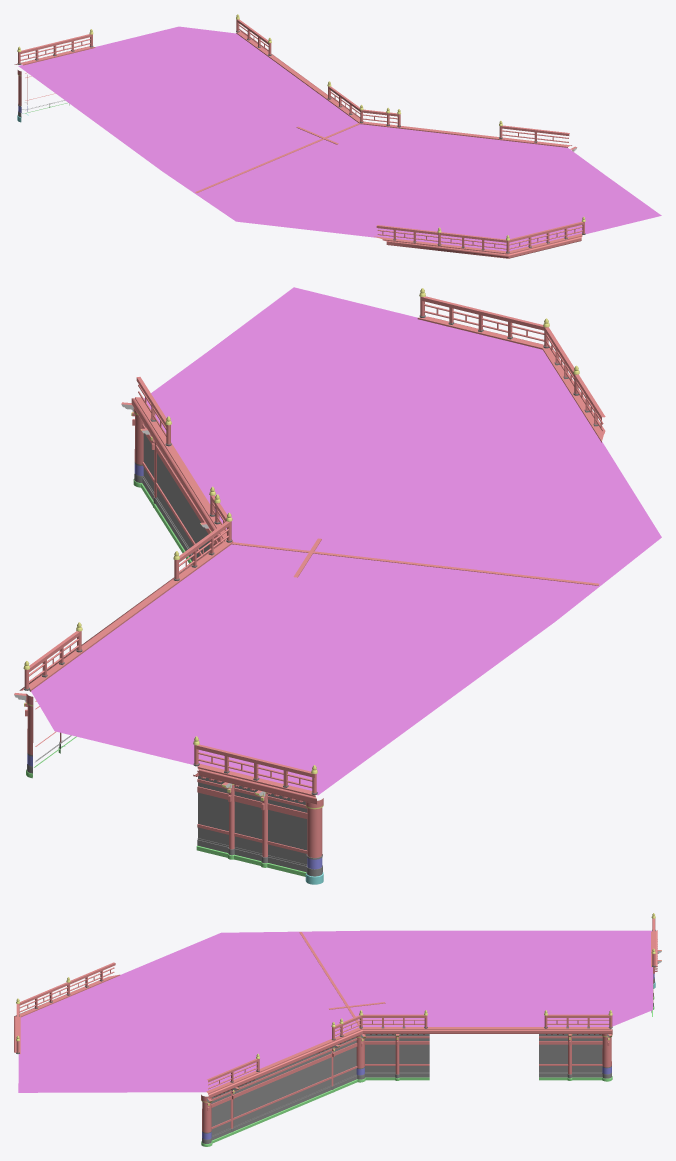
The model's file is SM_ENV_KNVLLG03_Bridge_PlatformA.gltf.
3 views of the same model, one above another, from view 1: azimuth 30°, elevation 25°; view 2: azimuth 150°, elevation 25°; view 3: azimuth 270°, elevation 25° (orthographic). The views are drawn at different scales.
Parts seen in each view (by area): view 1: SM_ENV_KNVLLG03_Bridge_PlatformA; view 2: SM_ENV_KNVLLG03_Bridge_PlatformA; view 3: SM_ENV_KNVLLG03_Bridge_PlatformA.
Boxes of the visible parts, x1=… form: SM_ENV_KNVLLG03_Bridge_PlatformA: x1=14, y1=14, x2=661, y2=258; SM_ENV_KNVLLG03_Bridge_PlatformA: x1=14, y1=287, x2=661, y2=884; SM_ENV_KNVLLG03_Bridge_PlatformA: x1=14, y1=913, x2=661, y2=1146.
Bounding box in the file's own units: 41.47 × 8.41 × 67.63.
